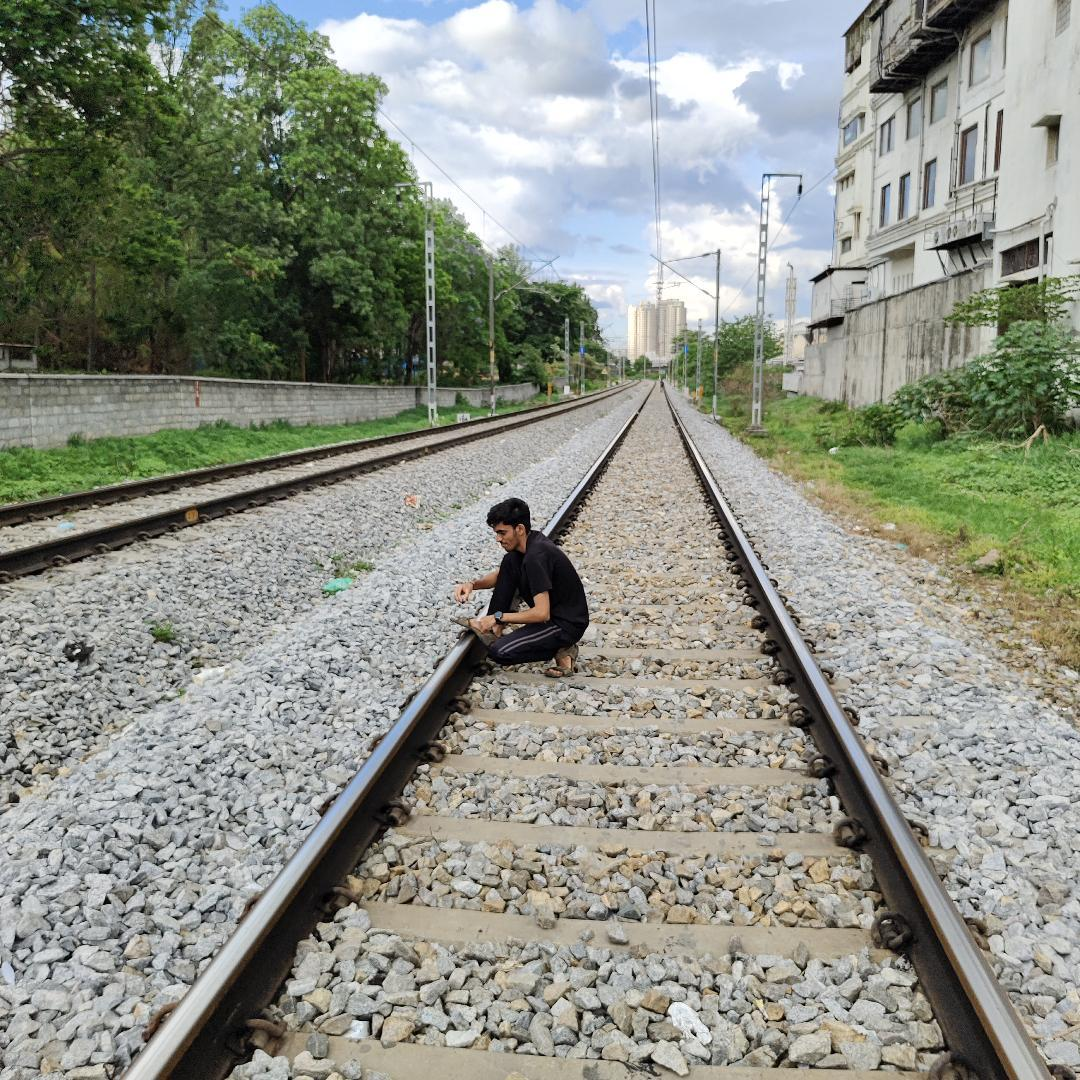sitting: (461, 499, 595, 679)
